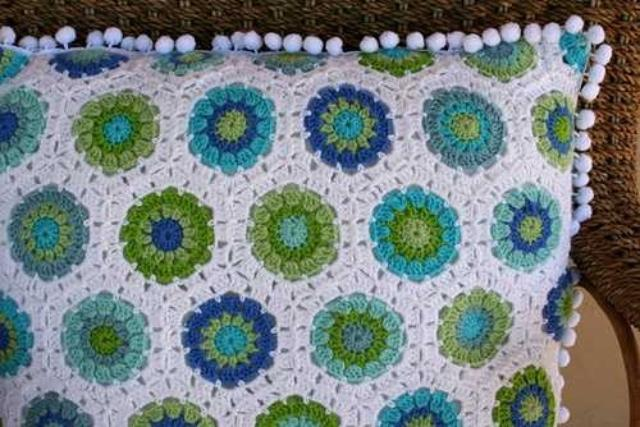pillow: (1, 16, 610, 426)
